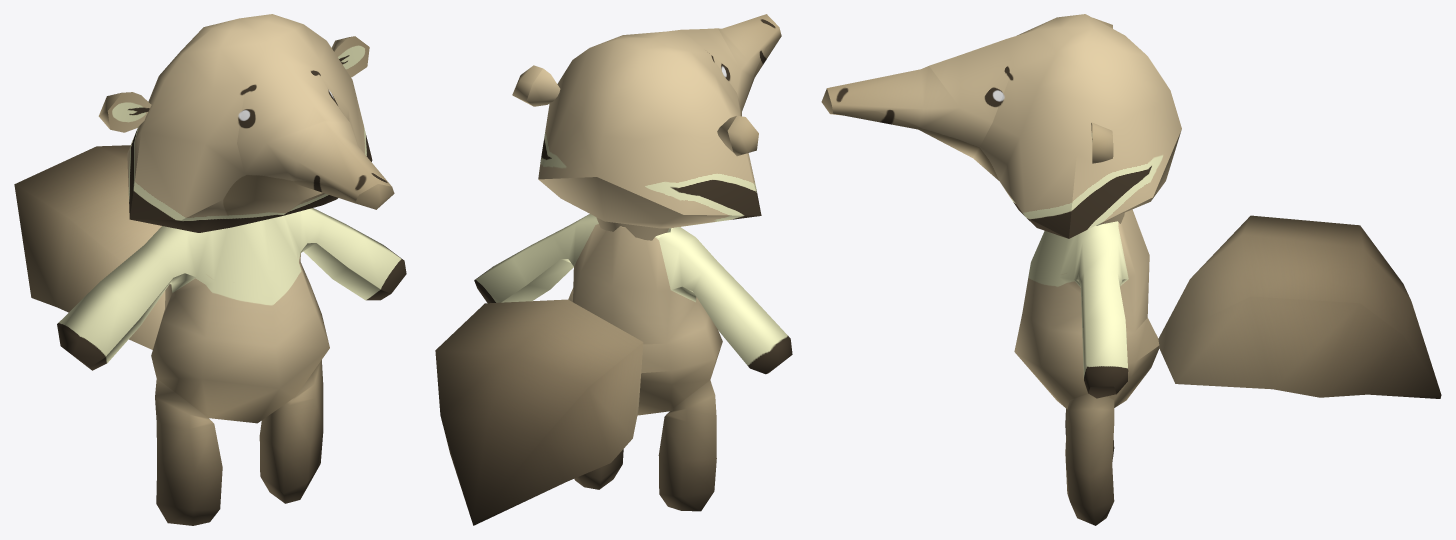
The model's file is Anteater06.FBX.
3 views of the same model, side by side, from view 1: azimuth 30°, elevation 25°; view 2: azimuth 150°, elevation 25°; view 3: azimuth 270°, elevation 25° (orthographic). The views are drawn at different scales.
Parts seen in each view (by area): view 1: Char_06_anteater, Char_body; view 2: Char_06_anteater, Char_body; view 3: Char_06_anteater, Char_body.
Boxes of the visible parts, x1,y1,x2,y2 form: Char_06_anteater: [14, 14, 394, 349]; Char_body: [57, 208, 406, 525]; Char_06_anteater: [435, 14, 781, 525]; Char_body: [474, 214, 792, 511]; Char_06_anteater: [821, 14, 1441, 398]; Char_body: [1014, 209, 1159, 525].
Bounding box in the file's own units: 51.82 × 72.6 × 87.55.
